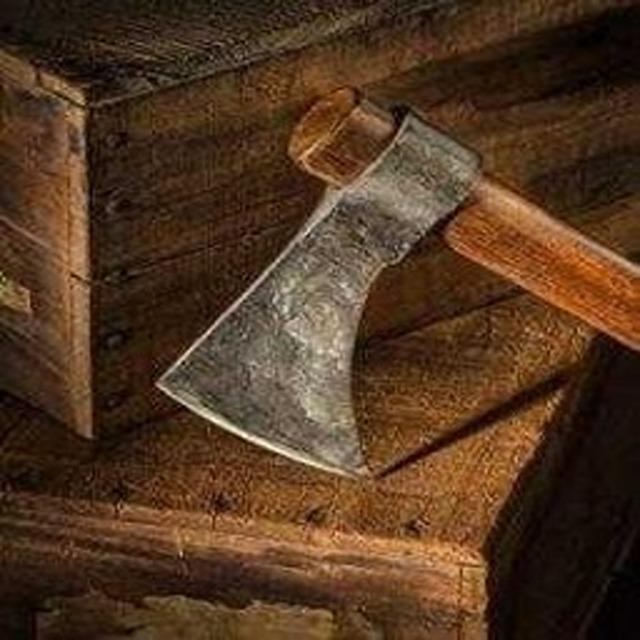ax: (153, 79, 640, 492)
